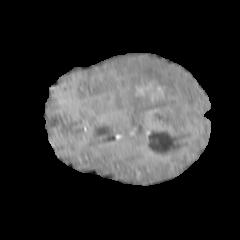glioma: (113, 59, 198, 131)
